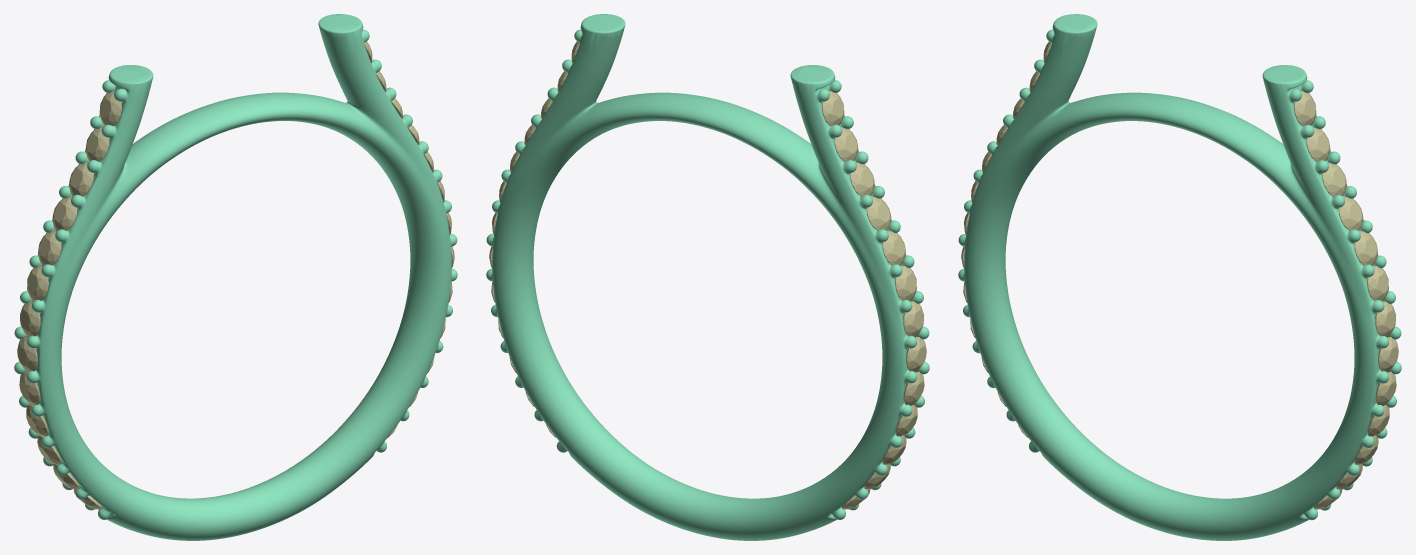
The picture shows the model from 3 angles, left to right: view 1: azimuth 30°, elevation 25°; view 2: azimuth 150°, elevation 25°; view 3: azimuth 330°, elevation 25°; orthographic projection.
Visible parts, largest first — view 1: Metal02, Diamond_Gem.016, Diamond_Gem.017, Diamond_Gem.014, Diamond_Gem.024, Diamond_Gem.025, Diamond_Gem.013, Diamond_Gem.023; view 2: Metal02, Diamond_Gem.016, Diamond_Gem.014, Diamond_Gem.017, Diamond_Gem.024, Diamond_Gem.025, Diamond_Gem.013, Diamond_Gem.023; view 3: Metal02, Diamond_Gem.009, Diamond_Gem.011, Diamond_Gem.008, Diamond_Gem.001, Diamond_Gem, Diamond_Gem.012, Diamond_Gem.002.
Boxes of the visible parts, <box> form: Metal02: <box>14,14,457,540</box>; Diamond_Gem.016: <box>52,197,77,230</box>; Diamond_Gem.017: <box>69,162,93,196</box>; Diamond_Gem.014: <box>38,231,61,265</box>; Diamond_Gem.024: <box>85,127,109,161</box>; Diamond_Gem.025: <box>99,91,121,126</box>; Diamond_Gem.013: <box>27,266,48,301</box>; Diamond_Gem.023: <box>20,301,40,336</box>; Metal02: <box>486,14,929,540</box>; Diamond_Gem.016: <box>866,197,891,230</box>; Diamond_Gem.014: <box>882,231,905,265</box>; Diamond_Gem.017: <box>850,162,874,196</box>; Diamond_Gem.024: <box>834,127,858,161</box>; Diamond_Gem.025: <box>822,91,844,126</box>; Diamond_Gem.013: <box>895,265,916,301</box>; Diamond_Gem.023: <box>903,301,923,336</box>; Metal02: <box>958,14,1401,540</box>; Diamond_Gem.009: <box>1338,197,1363,230</box>; Diamond_Gem.011: <box>1354,231,1377,265</box>; Diamond_Gem.008: <box>1322,162,1346,196</box>; Diamond_Gem.001: <box>1306,127,1330,161</box>; Diamond_Gem: <box>1294,91,1316,126</box>; Diamond_Gem.012: <box>1367,266,1388,301</box>; Diamond_Gem.002: <box>1375,301,1395,337</box>.
Bounding box in the file's own units: 20.91 × 22.56 × 1.99.
